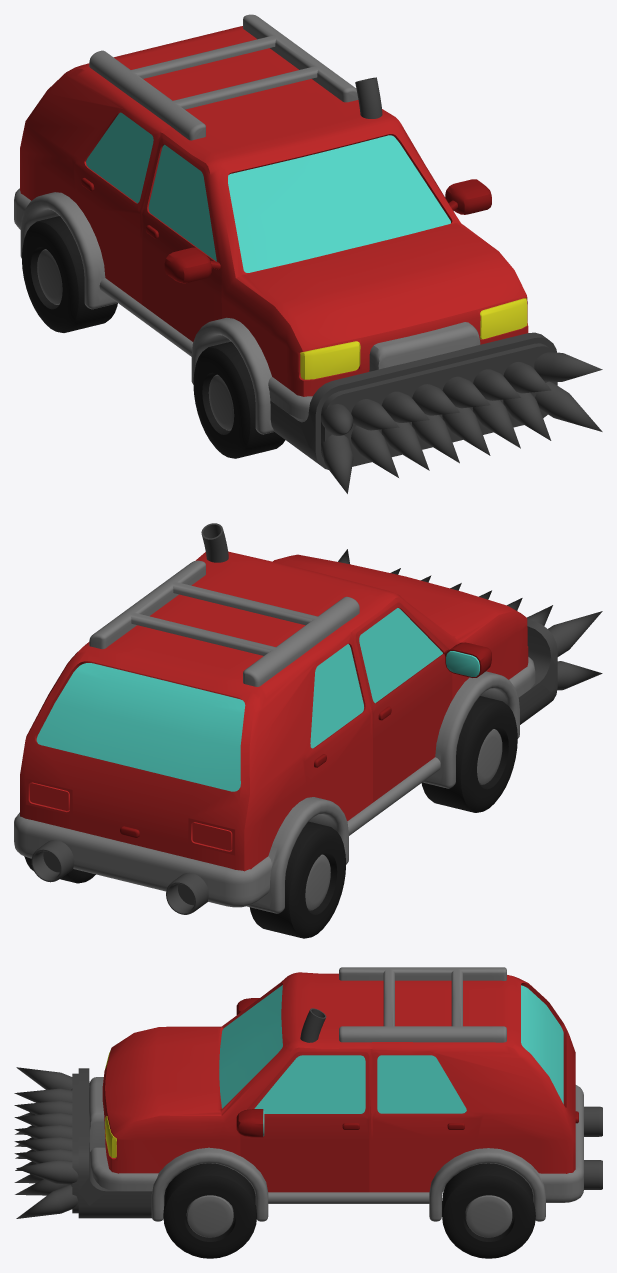
The model's file is MediumCar.fbx.
3 renders of one model, top to bottom at view 1: azimuth 30°, elevation 25°; view 2: azimuth 150°, elevation 25°; view 3: azimuth 270°, elevation 25°, orthographic. The views are drawn at different scales.
Parts seen in each view (by area): view 1: MediumCarBody, SpikedBumper, MediumCarBumper, MC_BackRWheel, MC_FrontRWheel; view 2: MediumCarBody, MediumCarBumper, MC_FrontRWheel, MC_BackRWheel, SpikedBumper; view 3: MediumCarBody, MediumCarBumper, SpikedBumper, MC_BackLWheel, MC_FrontLWheel.
Boxes of the visible parts, box(x1,y1,x2,y2) form: MediumCarBody: box(20, 14, 528, 396); SpikedBumper: box(270, 332, 602, 493); MediumCarBumper: box(14, 188, 480, 434); MC_BackRWheel: box(22, 216, 117, 332); MC_FrontRWheel: box(193, 341, 285, 458); MediumCarBody: box(20, 523, 528, 914); MediumCarBumper: box(14, 657, 535, 913); MC_FrontRWheel: box(421, 696, 517, 812); MC_BackRWheel: box(249, 821, 345, 938); SpikedBumper: box(338, 549, 602, 724); MediumCarBody: box(102, 967, 602, 1192); MediumCarBumper: box(89, 1077, 583, 1221); SpikedBumper: box(14, 1067, 152, 1218); MC_BackLWheel: box(442, 1163, 535, 1258); MC_FrontLWheel: box(163, 1163, 256, 1258).
Bounding box in the file's own units: 3.29 × 2.78 × 6.54.
Materials: 2 (2 with a texture image).
